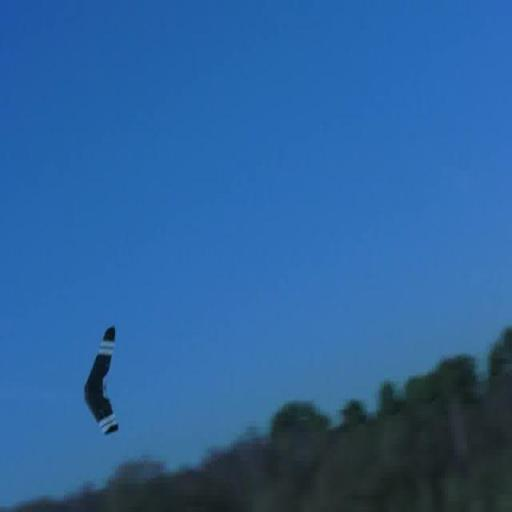uav: (84, 318, 128, 442)
